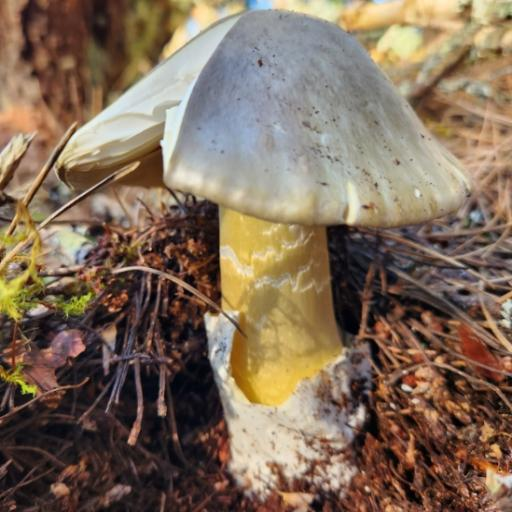Death Cap: (23, 0, 512, 510)
